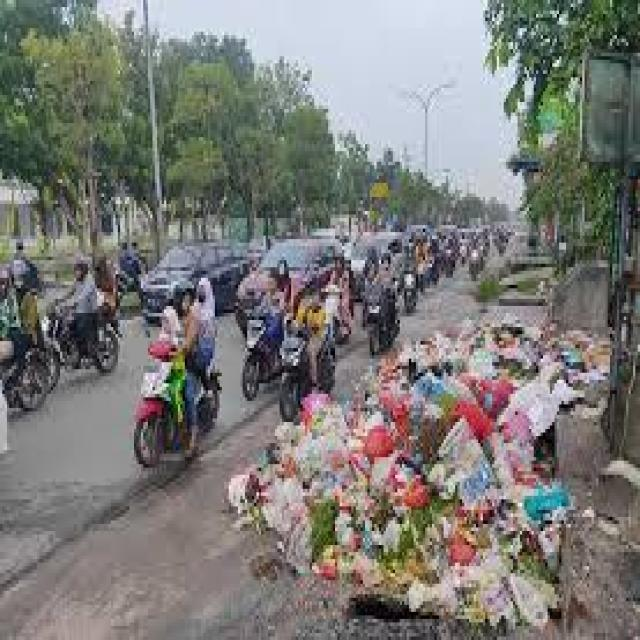trash: (361, 344, 611, 640)
